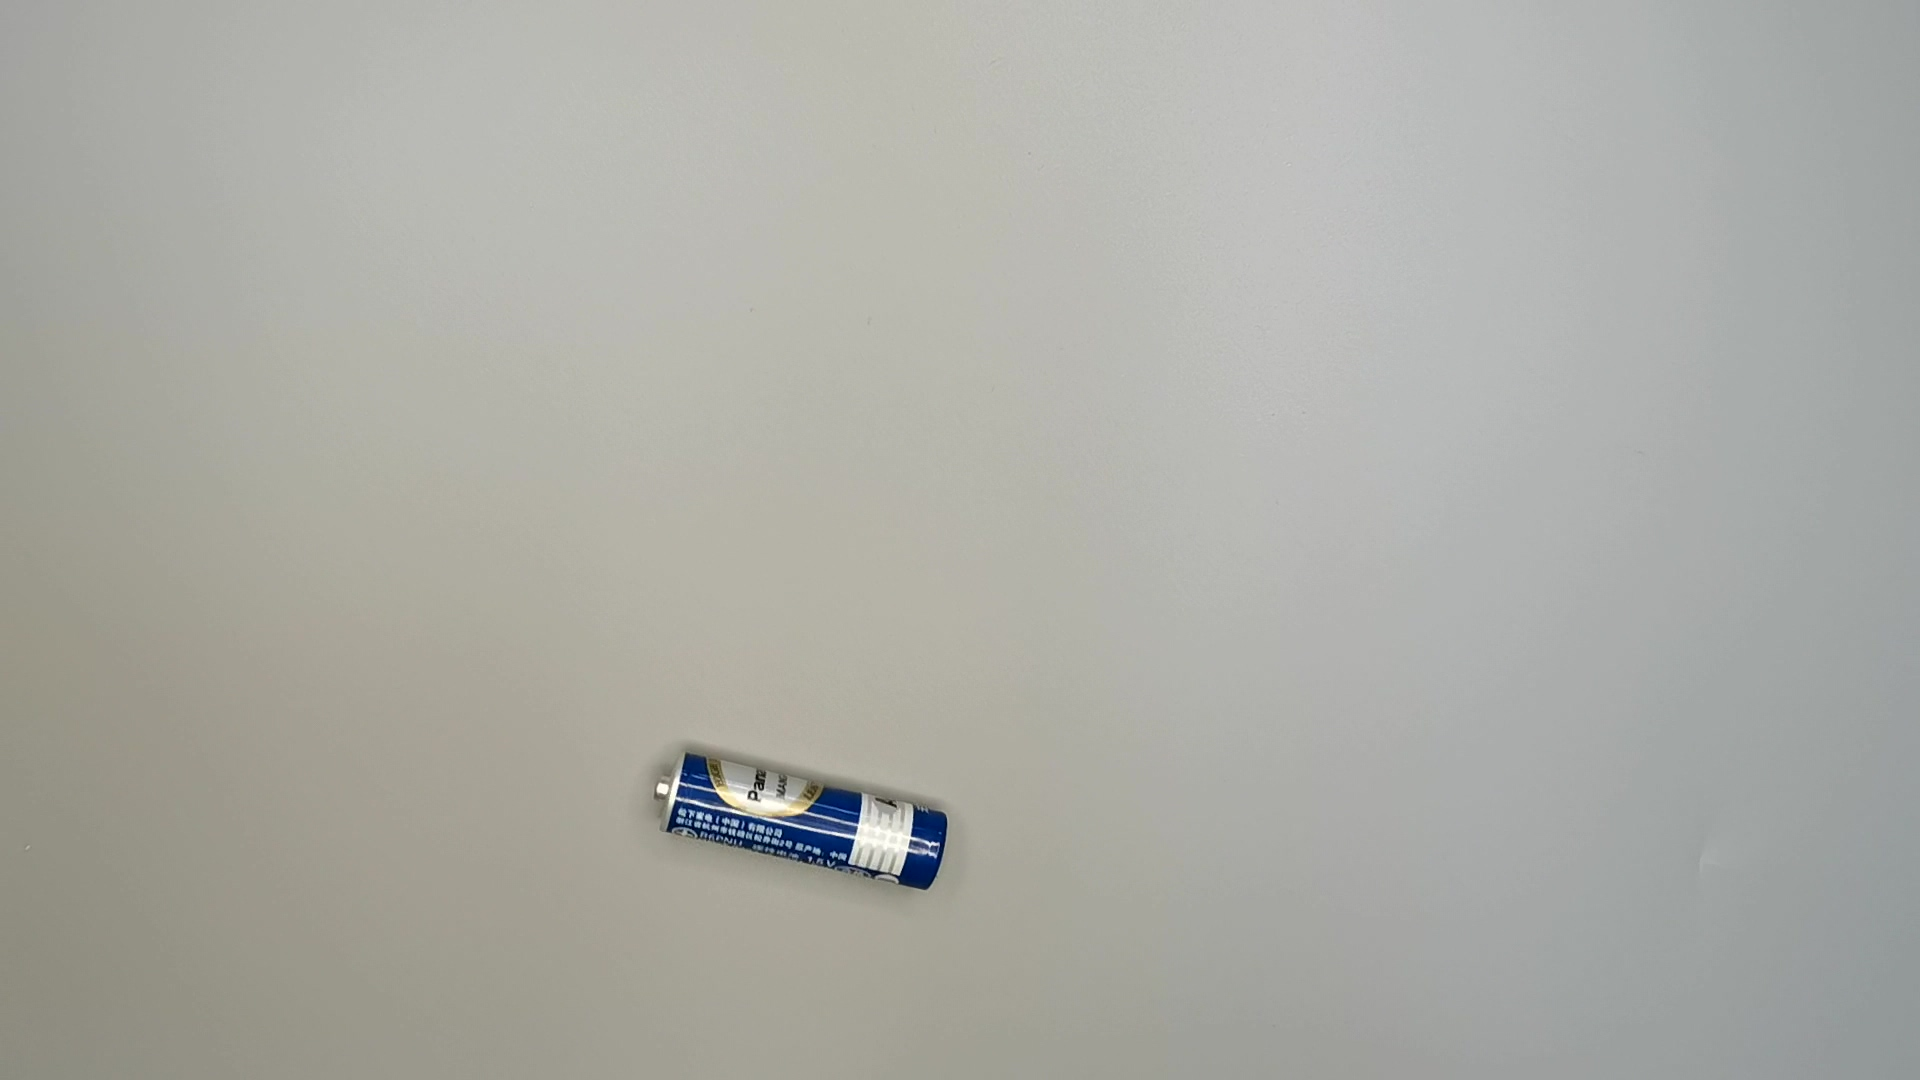battery: (655, 742, 951, 901)
